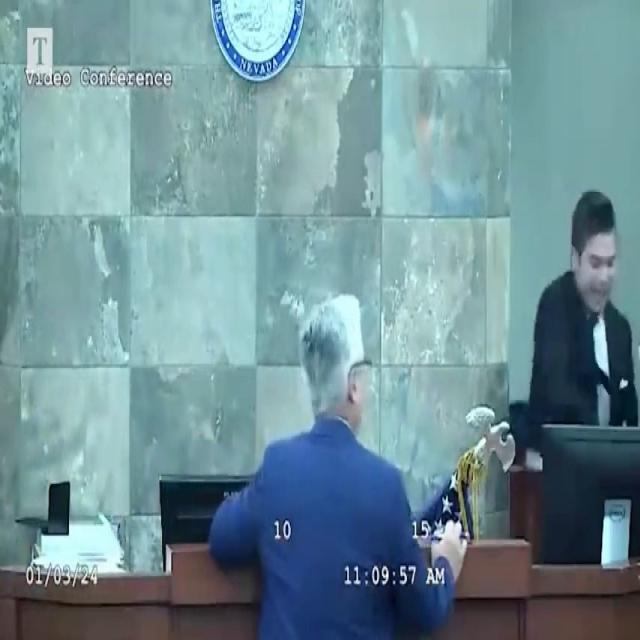non-fight: (209, 274, 466, 640), (515, 176, 640, 462)
